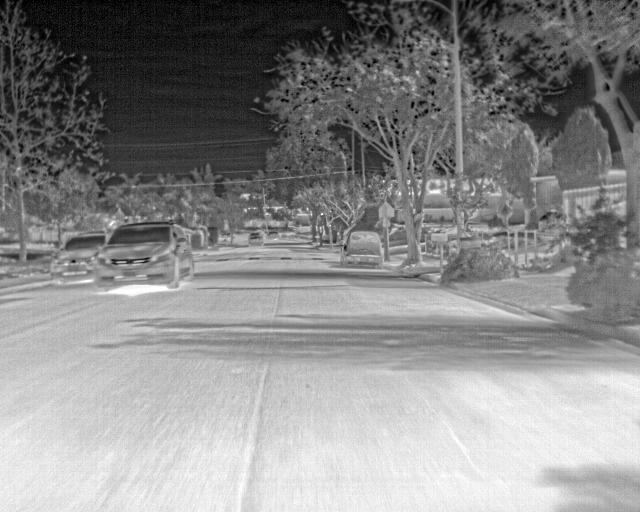car: (96, 223, 194, 290), (50, 235, 107, 279), (340, 229, 383, 268), (246, 230, 263, 244), (268, 229, 281, 241)
